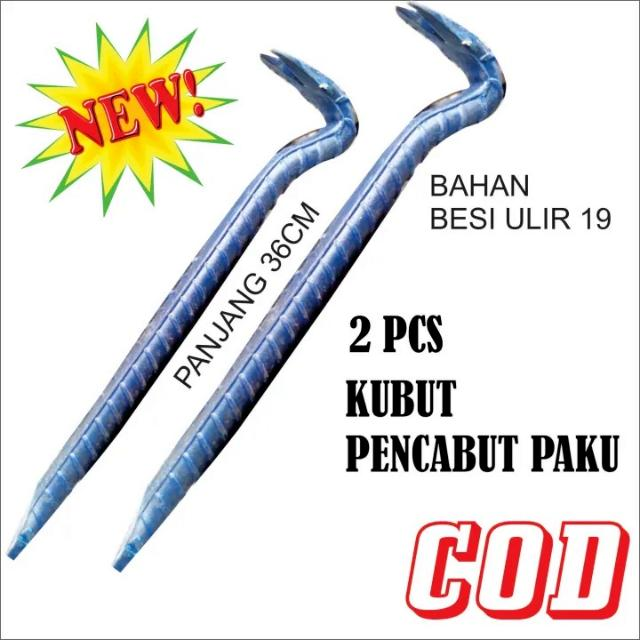crow bar: (112, 1, 507, 571), (6, 47, 360, 559)
